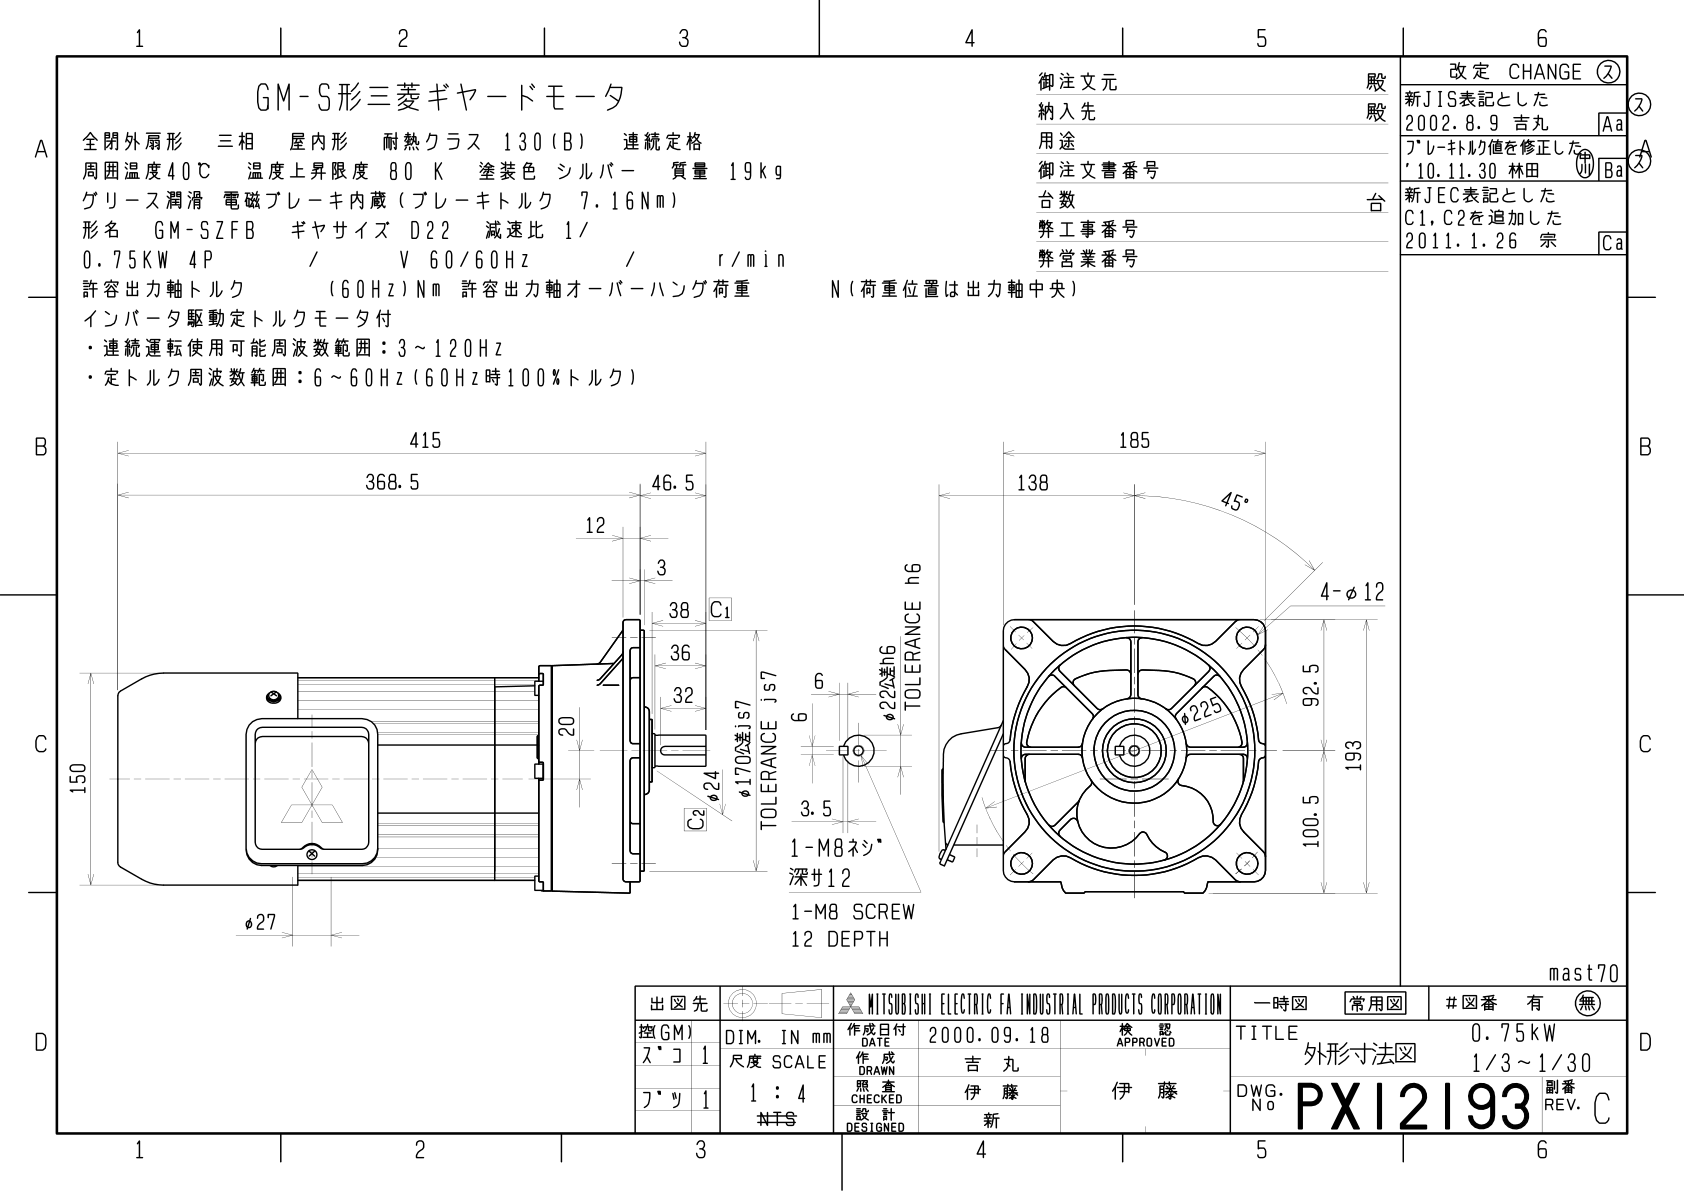GM_S_インバタ屋内＿三相_フランジ: (1, 1, 1666, 1179)
